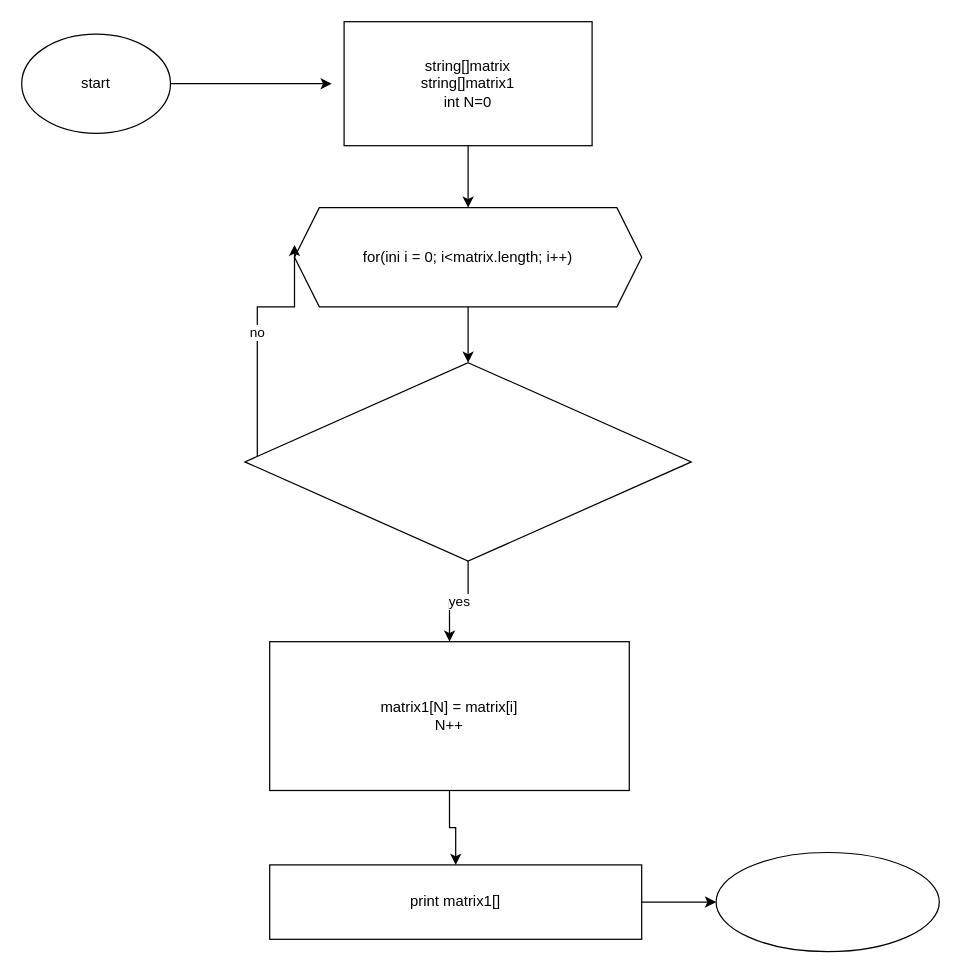
Some shapes in this 961 by 973 pixel diagram are drawn without their labels. The box of each missing label's shape, as (x1, y1, x2, y2) in pixels:
finish: (715, 851, 939, 952)
if (matrix[i].length<=3): (244, 361, 691, 561)
